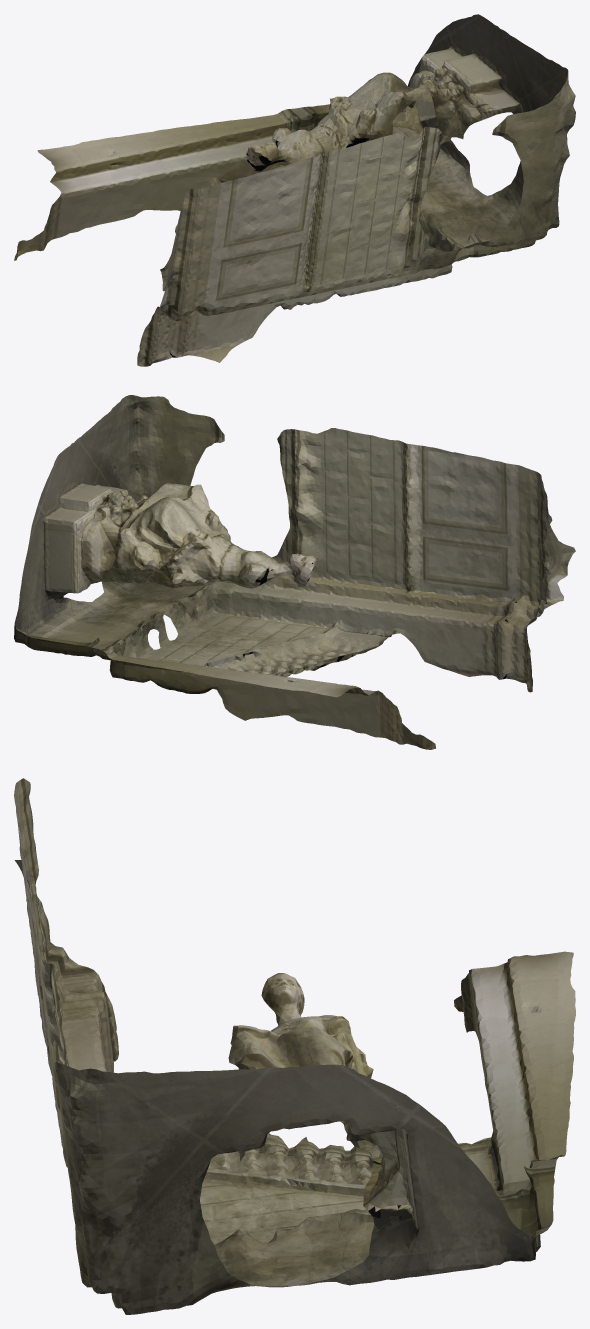
File: texturedMesh.obj
3 views of the same model, one above another, from view 1: azimuth 30°, elevation 25°; view 2: azimuth 150°, elevation 25°; view 3: azimuth 270°, elevation 25° (orthographic). The views are drawn at different scales.
Visible parts, largest first — view 1: TexturedMesh; view 2: TexturedMesh; view 3: TexturedMesh.
Boxes of the visible parts, bbox=[...] form: TexturedMesh: bbox=[14, 14, 575, 366]; TexturedMesh: bbox=[14, 395, 575, 749]; TexturedMesh: bbox=[14, 778, 575, 1314].
Size of the model in its own units: 3.91 by 1.76 by 2.89.
9 materials, 9 textured.
